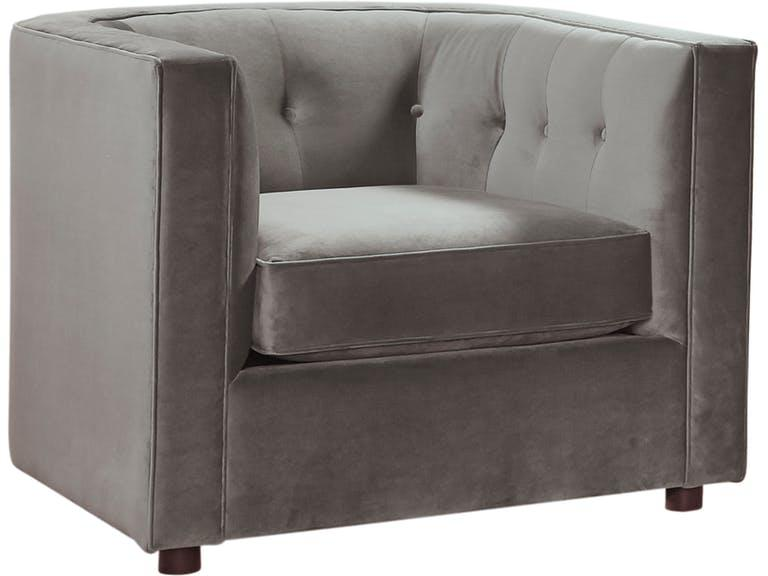chair: (10, 5, 752, 576)
